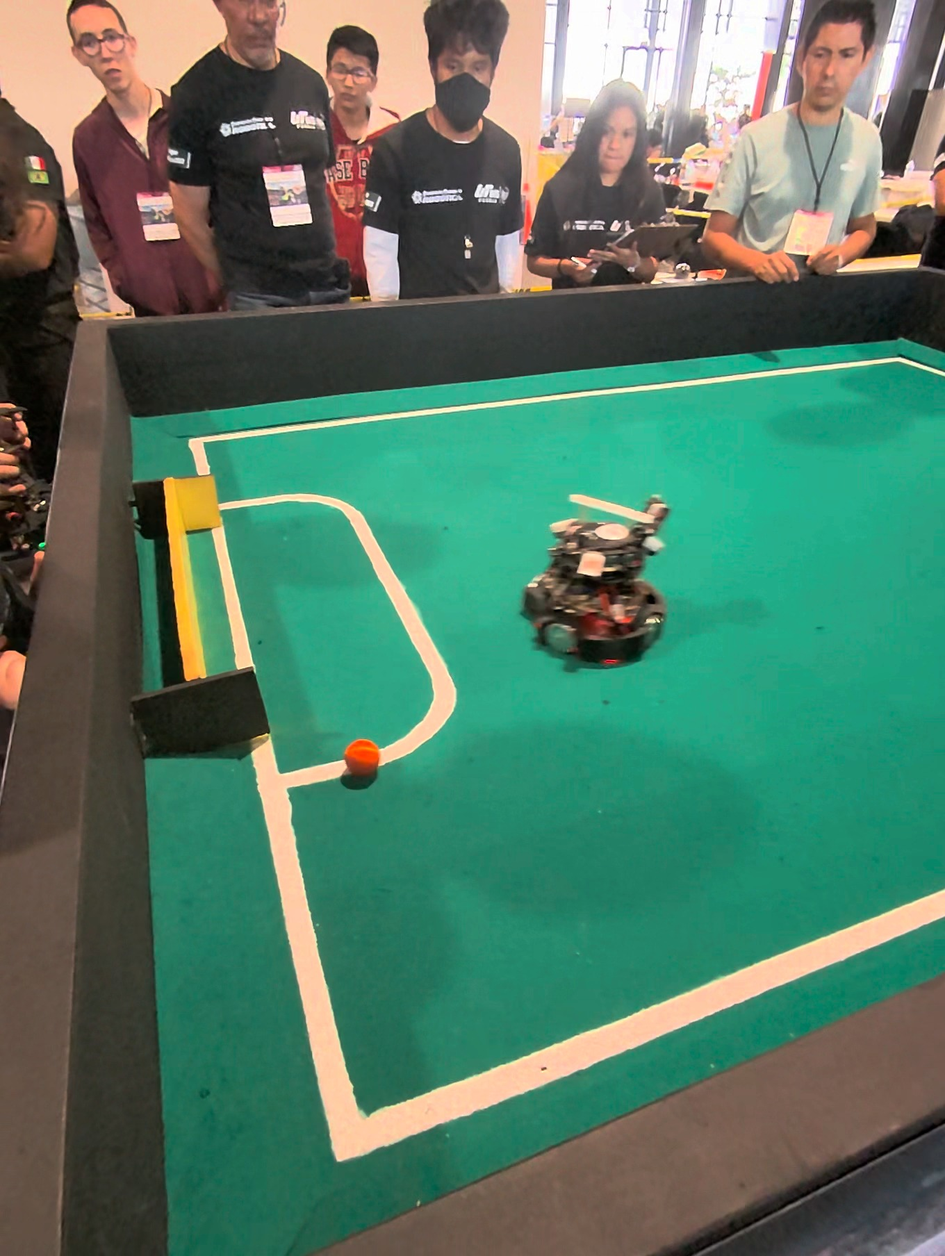Robot: (524, 467, 679, 678)
pelota: (345, 742, 382, 785)
